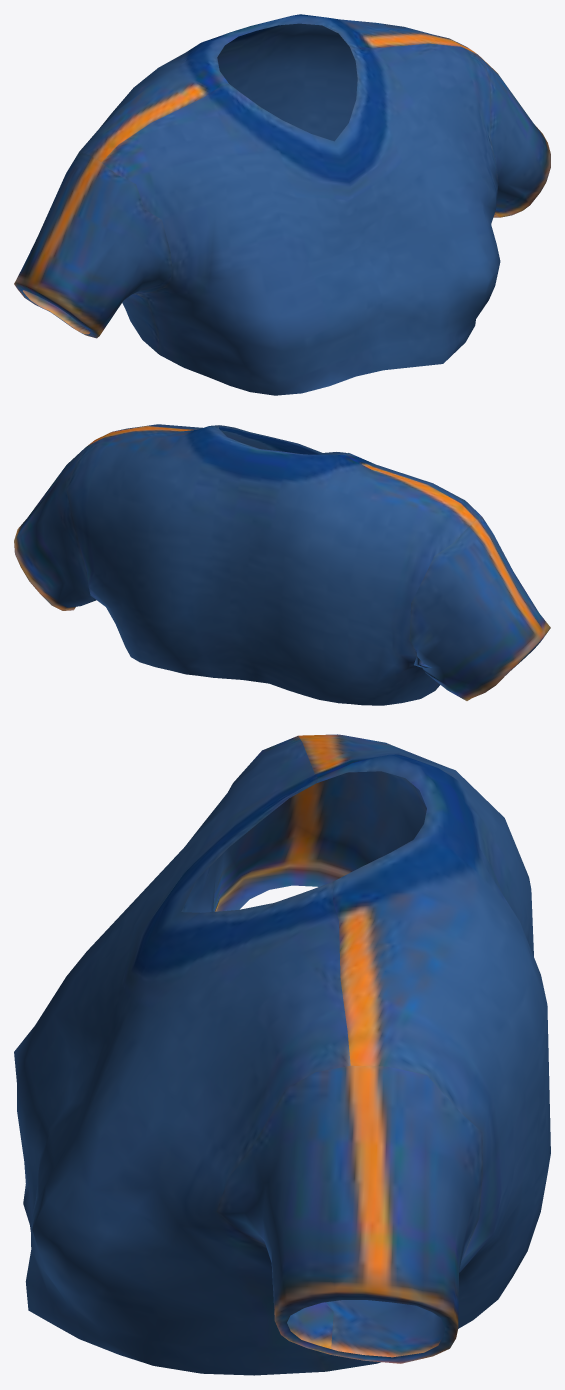
The model's file is croptop_seller.glb.
3 renders of one model, top to bottom at view 1: azimuth 30°, elevation 25°; view 2: azimuth 150°, elevation 25°; view 3: azimuth 270°, elevation 25°, orthographic. The views are drawn at different scales.
Visible parts, largest first — view 1: croptop_seller_out; view 2: croptop_seller_out; view 3: croptop_seller_out.
Part boxes in pixels (x1=…): croptop_seller_out: x1=14, y1=14, x2=550, y2=395; croptop_seller_out: x1=14, y1=424, x2=550, y2=705; croptop_seller_out: x1=14, y1=734, x2=550, y2=1375.
Size of the model in its own units: 564 by 271 by 291.
Materials: 1 (1 with a texture image).
